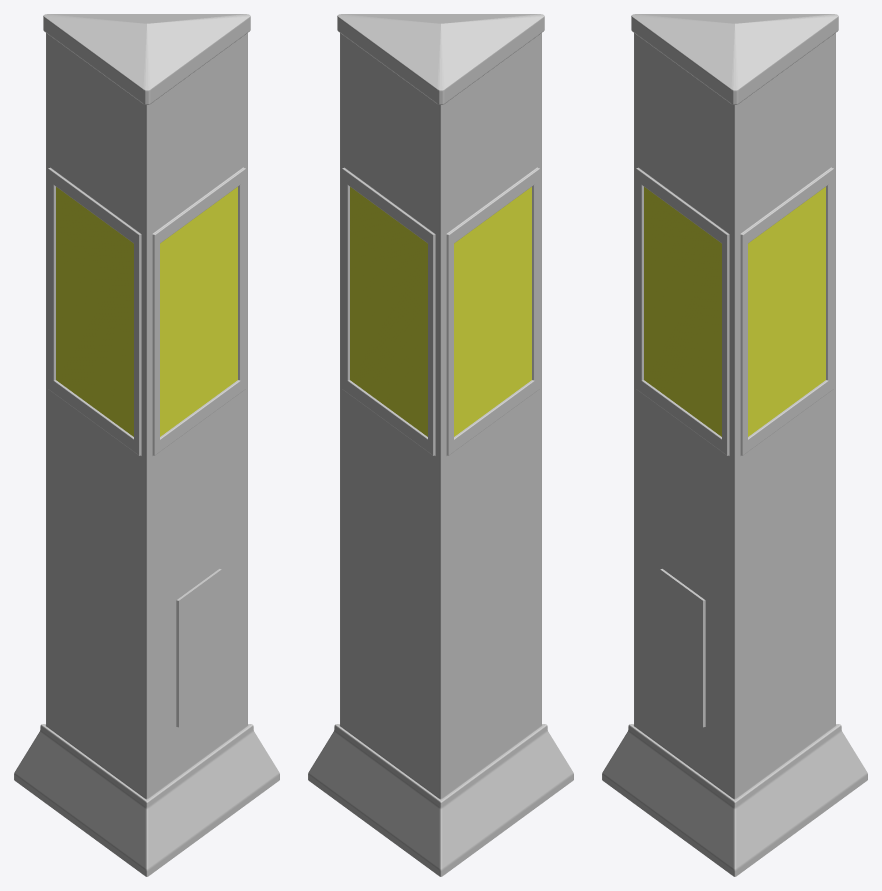
File: AuraMni.fbx
3 renders of one model, left to right at view 1: azimuth 30°, elevation 25°; view 2: azimuth 150°, elevation 25°; view 3: azimuth 270°, elevation 25°, orthographic.
Parts seen in each view (by area): view 1: AuraMini, Glass; view 2: AuraMini, Glass; view 3: AuraMini, Glass.
Boxes of the visible parts, x1,y1,x2,y2 form: AuraMini: (14, 14, 279, 876); Glass: (56, 187, 237, 436); AuraMini: (308, 14, 573, 876); Glass: (350, 187, 531, 436); AuraMini: (602, 14, 867, 876); Glass: (644, 187, 825, 436).
Size of the model in its own units: 24.28 by 91.68 by 28.01.
